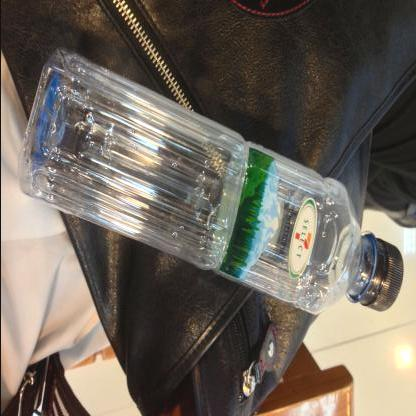bottle: (13, 44, 410, 316)
